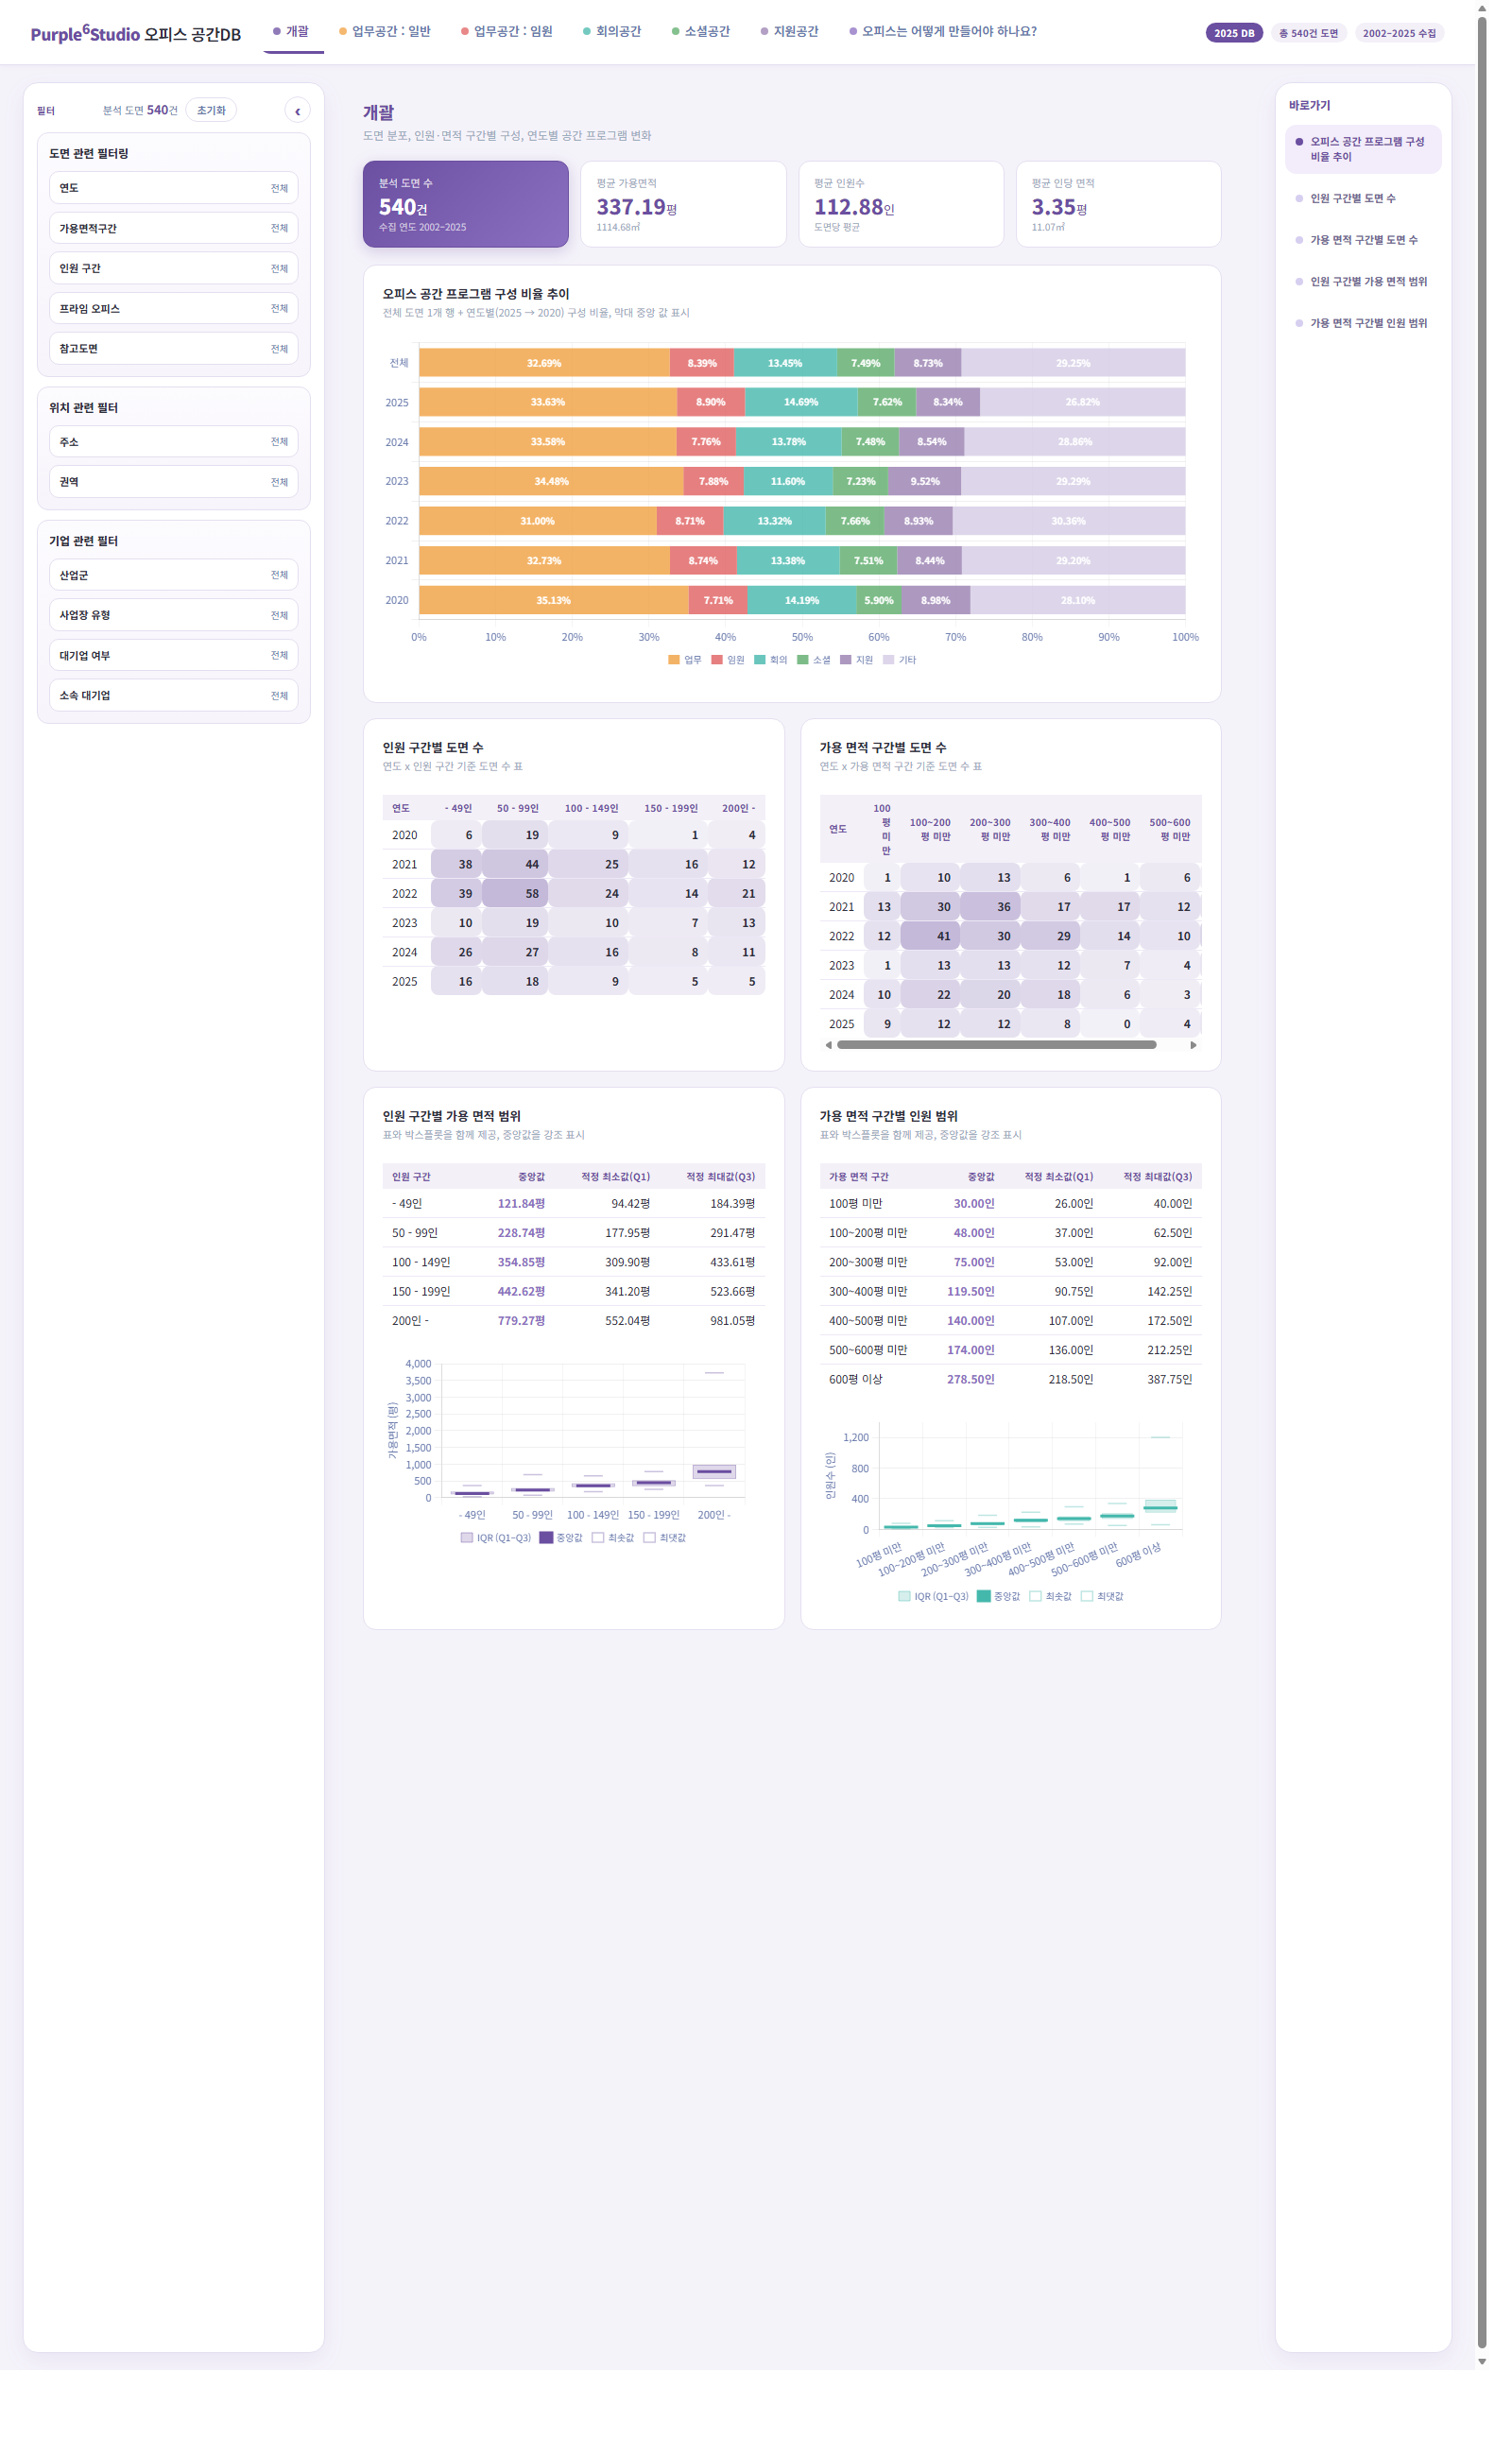

What the dashboard file says about the page in this screenshot:
{"tool":"tableau","page":{"name":"개괄","canvas":[700,2400],"ordinal":0},"visuals":[{"type":"text","box":[8,8,684,100]},{"type":"worksheet","title":"출처","mark":"Text","box":[8,108,684,32]},{"type":"text","box":[19,151,179,26]},{"type":"text","box":[220,151,179,26]},{"type":"text","box":[421,151,260,26]},{"type":"filter","title":"비율추세_real","param":"[federated.1jlzfyt15o89vq1b1jnkh0pjr7ir].[none:Calculation_1002613879530815491:o","box":[19,177,179,32.7]},{"type":"filter","title":"비율추세_real","param":"[federated.1jlzfyt15o89vq1b1jnkh0pjr7ir].[none:주소:nk]","box":[220,177,179,61]},{"type":"filter","title":"비율추세_real","param":"[federated.1jlzfyt15o89vq1b1jnkh0pjr7ir].[none:업종:nk]","box":[421,177,130,44]},{"type":"filter","title":"비율추세_real","param":"[federated.1jlzfyt15o89vq1b1jnkh0pjr7ir].[none:사업장유형:nk]","box":[551,177,130,44]},{"type":"filter","title":"비율추세_real","param":"[federated.1jlzfyt15o89vq1b1jnkh0pjr7ir].[none:가용면적구간:nk]","box":[19,209.7,179,32.7]},{"type":"filter","title":"비율추세_real","param":"[federated.1jlzfyt15o89vq1b1jnkh0pjr7ir].[none:대기업여부:nk]","box":[421,220.7,130,43.7]},{"type":"filter","title":"비율추세_real","param":"[federated.1jlzfyt15o89vq1b1jnkh0pjr7ir].[none:Calculation_1002613879528538114:n","box":[551,220.7,130,43.7]},{"type":"filter","title":"비율추세_real","param":"[federated.1jlzfyt15o89vq1b1jnkh0pjr7ir].[none:권역:nk]","box":[220,238,179,61]},{"type":"filter","title":"비율추세_real","param":"[federated.1jlzfyt15o89vq1b1jnkh0pjr7ir].[none:인원구간:nk]","box":[19,242.5,179,32.7]},{"type":"filter","title":"비율추세_real","param":"[federated.1jlzfyt15o89vq1b1jnkh0pjr7ir].[none:프라임오피스:nk]","box":[421,264.3,260,43.7]},{"type":"filter","title":"비율추세_real","param":"[federated.1jlzfyt15o89vq1b1jnkh0pjr7ir].[none:참고도면:nk]","box":[19,275.2,179,32.8]},{"type":"text","box":[19,336,662,32]},{"type":"worksheet","title":"비율_real","mark":"Automatic","rows":["Calculation_88664643962830853"],"cols":["Calculation_787285522020843527"],"box":[19,368,662,28]},{"type":"worksheet","title":"비율추세_real","mark":"Automatic","rows":["Calculation_1002613879530815491"],"cols":["Calculation_787285522020843527"],"box":[19,396,662,146]},{"type":"legend","title":"비율추세_real","param":"[federated.1jlzfyt15o89vq1b1jnkh0pjr7ir].[none:프로그램:nk]","box":[19,542,662,34]},{"type":"text","box":[19,576,662,28]},{"type":"worksheet","title":"연도 및 가용 면적 구간에 따른 도면 개수","mark":"Automatic","rows":["가용면적구간"],"cols":["Calculation_1002613879530815491"],"box":[19,604,331,230]},{"type":"worksheet","title":"연도 및 인원 구간에 따른 도면 개수","mark":"Automatic","rows":["인원구간"],"cols":["Calculation_1002613879530815491"],"box":[350,604,331,230]},{"type":"text","box":[19,834,398,34]},{"type":"parameter","param":"[Parameters].[매개 변수 1]","box":[417,834,264,34]},{"type":"worksheet","title":"OVERALL_박스플롯해석","mark":"Automatic","box":[264,838,38,25]},{"type":"worksheet","title":"인원 구간에 따른 가용 면적 분포_미터제곱","mark":"Automatic","rows":["Calculation_88664643978633224"],"cols":["인원구간"],"box":[19,868,662,219]},{"type":"text","box":[19,1087,662,40]},{"type":"worksheet","title":"OVERALL_박스플롯해석2","mark":"Automatic","box":[223,1092,39,28]},{"type":"worksheet","title":"가용 면적 구간(평)에 따른 인원 수 분포","mark":"Shape","rows":["면적필터(복사본)_88664643981815817"],"cols":["가용면적구간"],"box":[19,1127,662,201]},{"type":"text","box":[20,1363,660,80]},{"type":"worksheet","title":"url","mark":"Shape","rows":["소속대기업","기업명","파일이름","URL"],"box":[20,1443,660,937]},{"type":"blank","box":[56,1796,17,18]}]}

Visuals, with their boxes on the page's 700x2400 design canvas (x1, y1, x2, y2). These are canvas units, not pixel positions in the 1512x2457 screenshot, which may show the page scaled, cropped or inside an application window:
text: bbox=[8, 8, 692, 108]
"출처" worksheet (Text marks): bbox=[8, 108, 692, 140]
text: bbox=[19, 151, 198, 177]
text: bbox=[220, 151, 399, 177]
text: bbox=[421, 151, 681, 177]
"비율추세_real" filter: bbox=[19, 177, 198, 210]
"비율추세_real" filter: bbox=[220, 177, 399, 238]
"비율추세_real" filter: bbox=[421, 177, 551, 221]
"비율추세_real" filter: bbox=[551, 177, 681, 221]
"비율추세_real" filter: bbox=[19, 210, 198, 242]
"비율추세_real" filter: bbox=[421, 221, 551, 264]
"비율추세_real" filter: bbox=[551, 221, 681, 264]
"비율추세_real" filter: bbox=[220, 238, 399, 299]
"비율추세_real" filter: bbox=[19, 242, 198, 275]
"비율추세_real" filter: bbox=[421, 264, 681, 308]
"비율추세_real" filter: bbox=[19, 275, 198, 308]
text: bbox=[19, 336, 681, 368]
"비율_real" worksheet: bbox=[19, 368, 681, 396]
"비율추세_real" worksheet: bbox=[19, 396, 681, 542]
"비율추세_real" legend: bbox=[19, 542, 681, 576]
text: bbox=[19, 576, 681, 604]
"연도 및 가용 면적 구간에 따른 도면 개수" worksheet: bbox=[19, 604, 350, 834]
"연도 및 인원 구간에 따른 도면 개수" worksheet: bbox=[350, 604, 681, 834]
text: bbox=[19, 834, 417, 868]
parameter: bbox=[417, 834, 681, 868]
"OVERALL_박스플롯해석" worksheet: bbox=[264, 838, 302, 863]
"인원 구간에 따른 가용 면적 분포_미터제곱" worksheet: bbox=[19, 868, 681, 1087]
text: bbox=[19, 1087, 681, 1127]
"OVERALL_박스플롯해석2" worksheet: bbox=[223, 1092, 262, 1120]
"가용 면적 구간(평)에 따른 인원 수 분포" worksheet (Shape marks): bbox=[19, 1127, 681, 1328]
text: bbox=[20, 1363, 680, 1443]
"url" worksheet (Shape marks): bbox=[20, 1443, 680, 2380]
blank: bbox=[56, 1796, 73, 1814]
